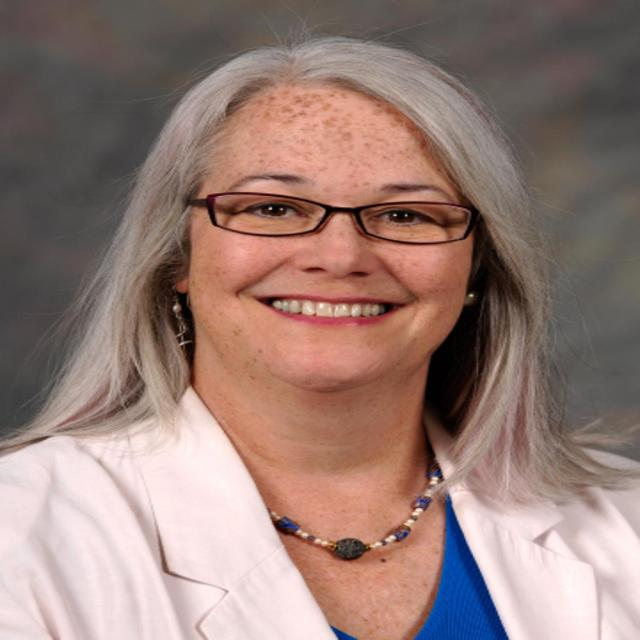Face: (196, 86, 506, 395)
